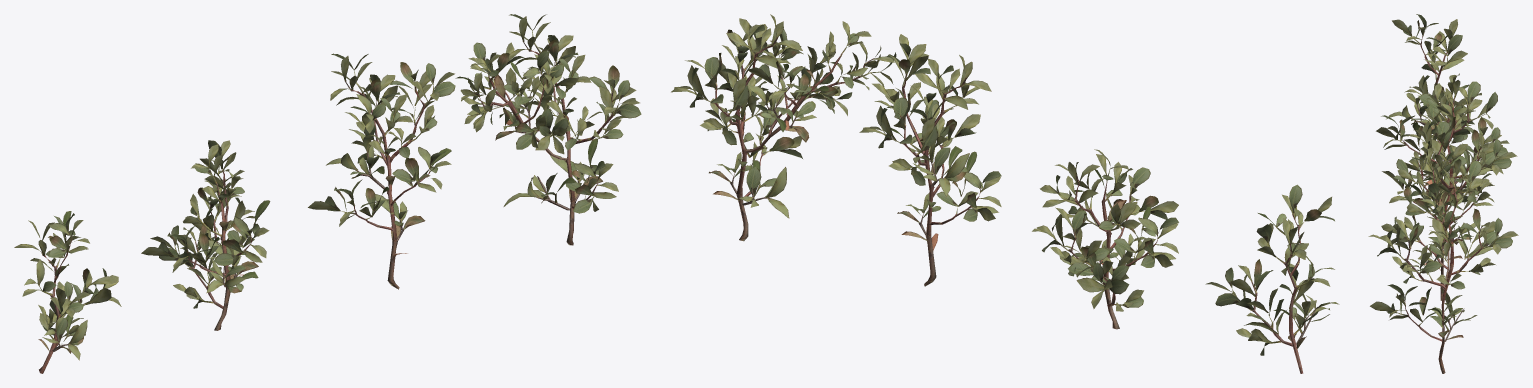
The model's file is shrub2.glb.
The picture shows the model from 3 angles, left to right: view 1: azimuth 30°, elevation 25°; view 2: azimuth 150°, elevation 25°; view 3: azimuth 270°, elevation 25°; orthographic projection. The views are drawn at different scales.
Parts seen in each view (by area): view 1: shrub_04; view 2: shrub_04; view 3: shrub_04.
Boxes of the visible parts, x1,y1,x2,y2 form: shrub_04: (14,14,641,373); shrub_04: (671,14,1339,373); shrub_04: (1368,14,1518,373).
Size of the model in its own units: 0.5837 by 0.2185 by 0.1461.
Materials: 1 (1 with a texture image).
